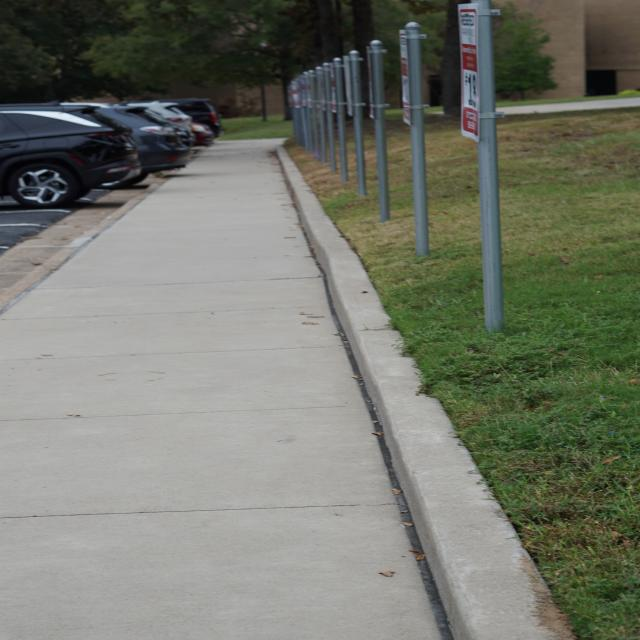Automobile: (0, 105, 142, 209), (99, 105, 191, 180), (125, 101, 192, 131), (178, 99, 223, 137), (191, 122, 215, 146)
Road: (0, 179, 163, 307)
Sidewalk: (1, 140, 439, 640)
